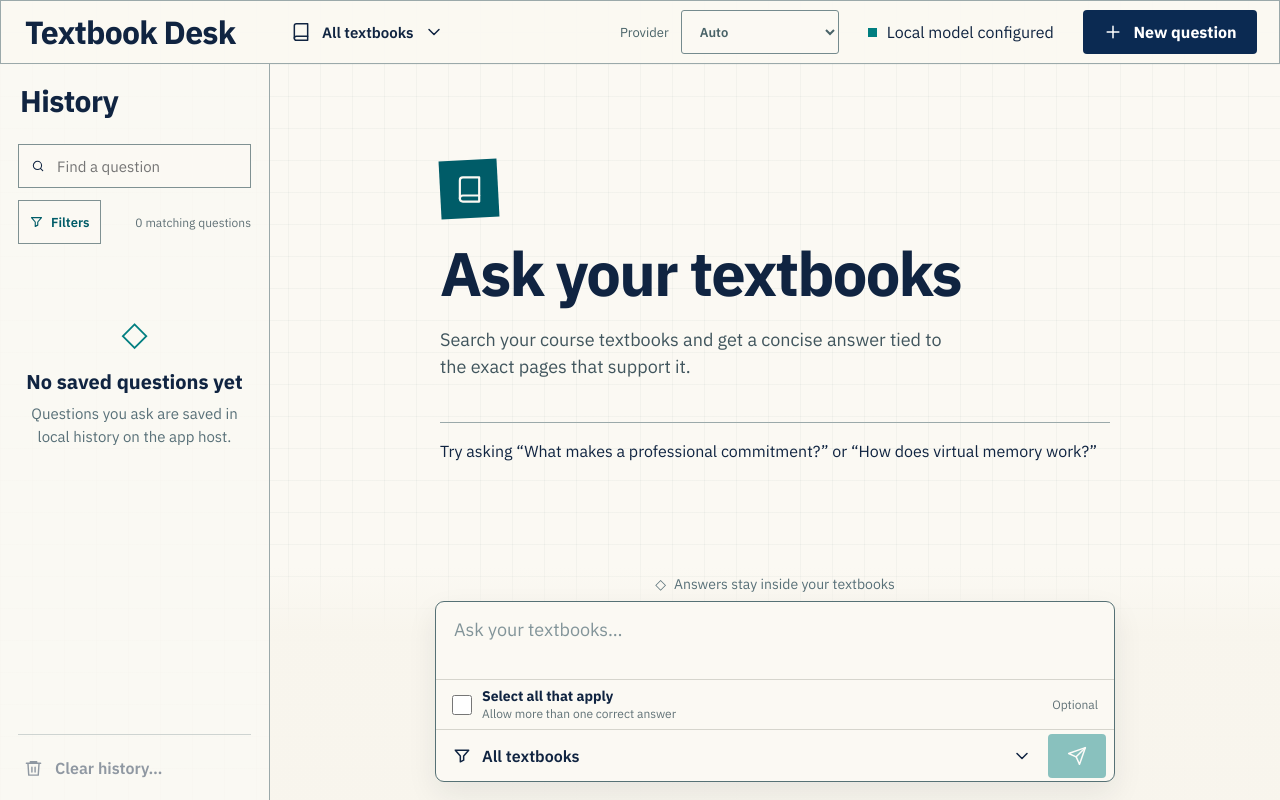
Test: Textbook Desk › submits select-all mode and makes the returned answer mode explicit
Click the checkbox labelled "Select all that apply": (462,704) [452, 694, 472, 714]
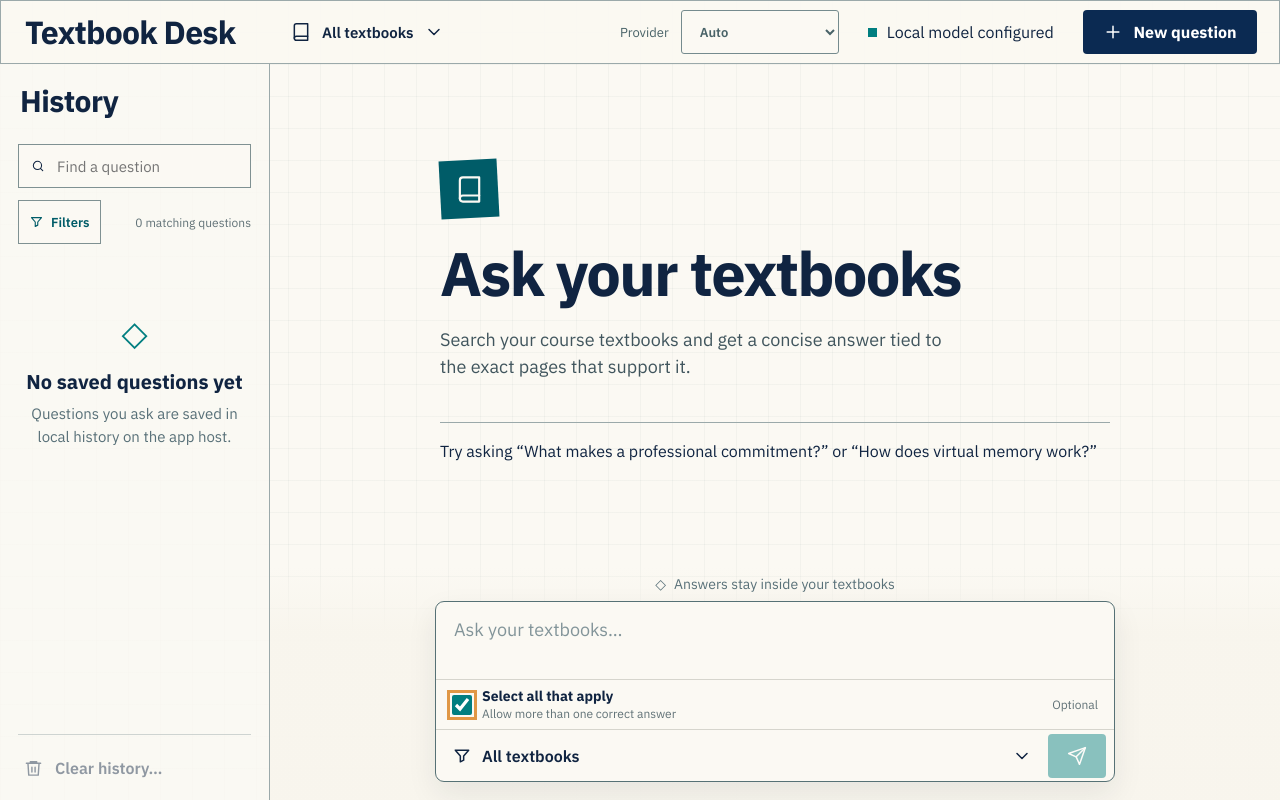
In the text box with placeholder "Ask your textbooks…": (775,638) [436, 602, 1114, 675], type "Which principles apply?"
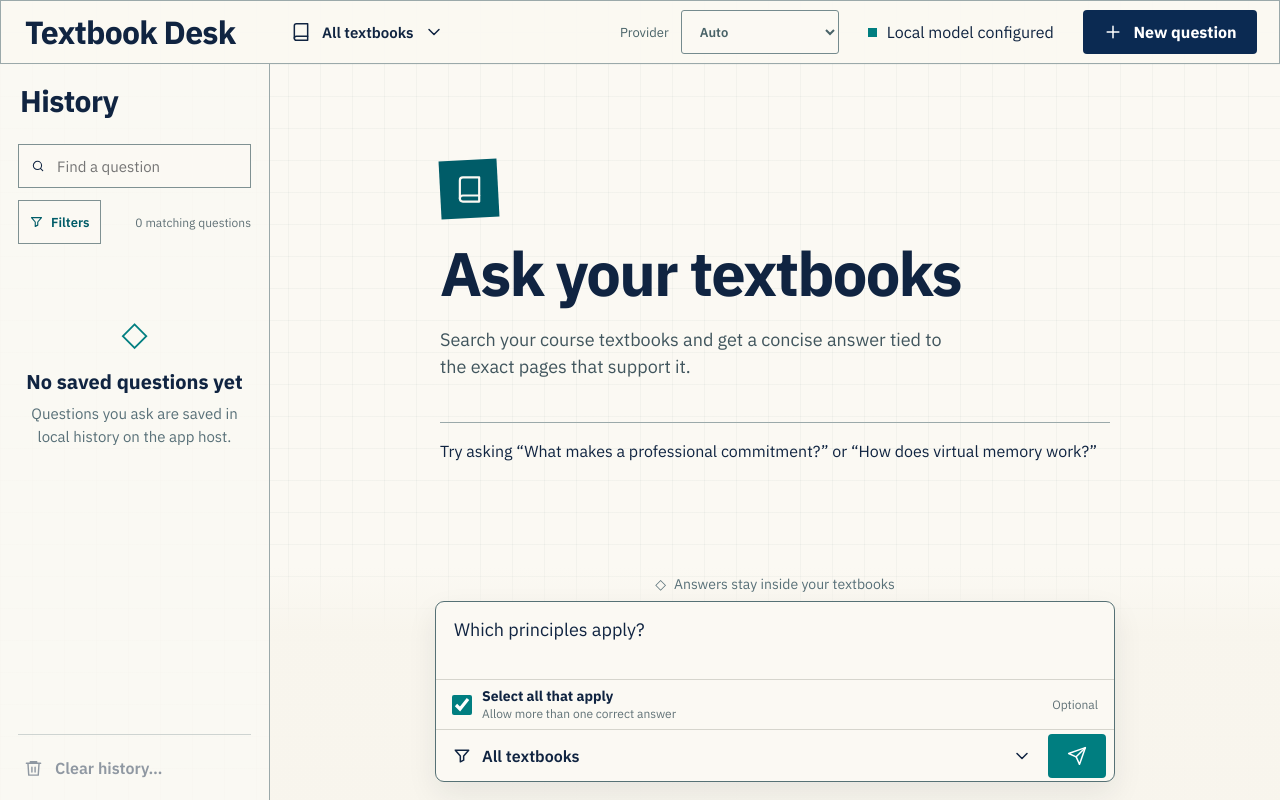
Click the button named "Ask question": (1077,756) [1048, 734, 1106, 778]
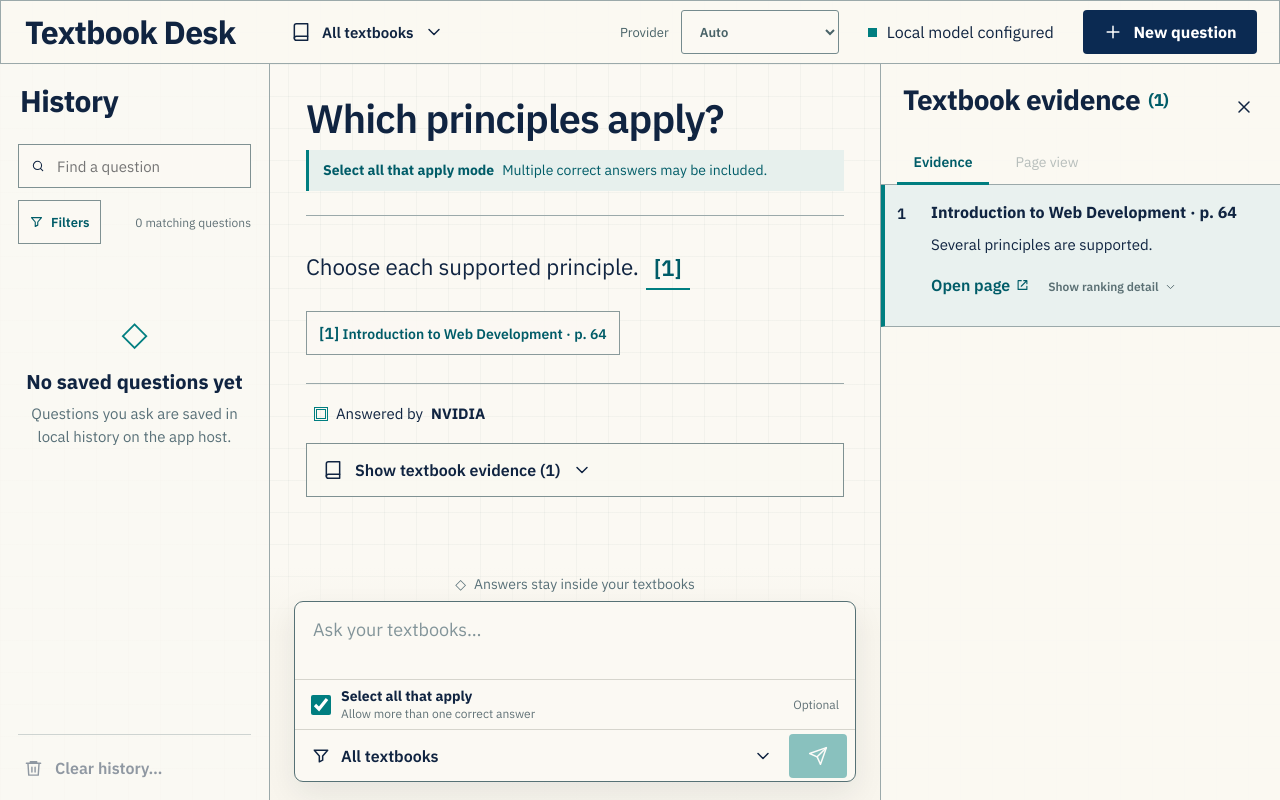
Check: the text "Select all that apply mode" is shown, box [323, 162, 494, 180]
Check: the text "Multiple correct answers may be included." is shown, box [502, 162, 767, 180]
